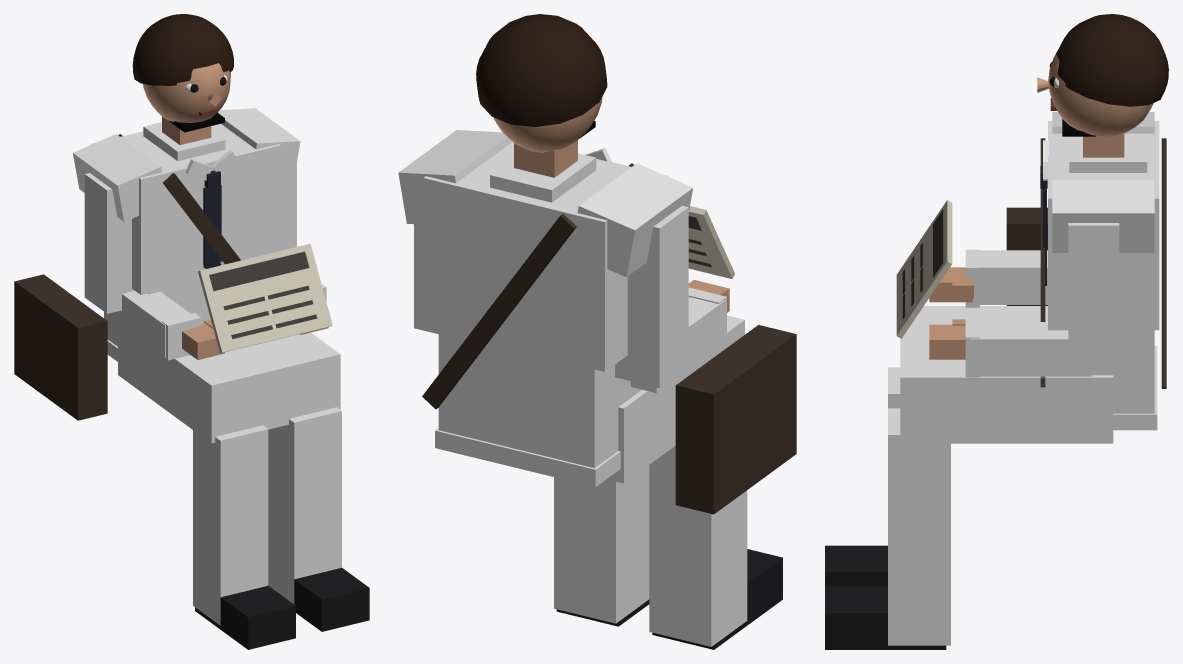
File: NPC_office_seated.fbx
The picture shows the model from 3 angles, left to right: view 1: azimuth 30°, elevation 25°; view 2: azimuth 150°, elevation 25°; view 3: azimuth 270°, elevation 25°; orthographic projection. The views are drawn at different scales.
Visible parts, largest first — view 1: Body_Cloth_26282d.001, Body_Cloth_a9aca9.001, Body_Mat_3a2d22.001, Body_Shoe.009, Prop_Newspaper_Newspaper.001, Head_Hair.011, Head_Skin.011, Prop_Newspaper_Mat_3b3a37.001, Body_Skin.011, Body_Cloth_8d908e.001, Body_Mat_1f2531.001; view 2: Body_Cloth_a9aca9.001, Body_Cloth_26282d.001, Body_Mat_3a2d22.001, Head_Hair.011, Body_Shoe.009, Head_Skin.011, Body_Skin.011, Prop_Newspaper_Newspaper.001, Body_Cloth_8d908e.001; view 3: Body_Cloth_a9aca9.001, Body_Cloth_26282d.001, Head_Hair.011, Body_Shoe.009, Body_Mat_3a2d22.001, Body_Skin.011, Head_Skin.011, Prop_Newspaper_Newspaper.001, Body_Cloth_8d908e.001, Prop_Newspaper_Mat_3b3a37.001.
Boxes of the visible parts, <box> form: Body_Cloth_26282d.001: <box>107,322,341,625</box>; Body_Cloth_a9aca9.001: <box>73,108,300,357</box>; Body_Mat_3a2d22.001: <box>14,134,240,420</box>; Body_Shoe.009: <box>195,568,369,649</box>; Prop_Newspaper_Newspaper.001: <box>198,243,332,353</box>; Head_Hair.011: <box>132,14,233,85</box>; Head_Skin.011: <box>143,63,230,122</box>; Prop_Newspaper_Mat_3b3a37.001: <box>209,251,317,338</box>; Body_Skin.011: <box>162,117,328,359</box>; Body_Cloth_8d908e.001: <box>161,150,326,360</box>; Body_Mat_1f2531.001: <box>203,170,221,268</box>; Body_Cloth_a9aca9.001: <box>398,130,725,467</box>; Body_Cloth_26282d.001: <box>435,315,747,646</box>; Body_Mat_3a2d22.001: <box>422,163,796,514</box>; Head_Hair.011: <box>476,14,607,126</box>; Body_Shoe.009: <box>556,549,782,649</box>; Head_Skin.011: <box>493,96,602,152</box>; Body_Skin.011: <box>514,140,729,312</box>; Prop_Newspaper_Newspaper.001: <box>688,206,734,278</box>; Body_Cloth_8d908e.001: <box>585,148,726,342</box>; Body_Cloth_a9aca9.001: <box>970,112,1159,413</box>; Body_Cloth_26282d.001: <box>888,306,1157,645</box>; Head_Hair.011: <box>1056,14,1168,106</box>; Body_Shoe.009: <box>825,545,946,649</box>; Body_Mat_3a2d22.001: <box>1006,138,1166,388</box>; Body_Skin.011: <box>929,133,1124,359</box>; Head_Skin.011: <box>1037,49,1153,137</box>; Prop_Newspaper_Newspaper.001: <box>896,200,952,338</box>; Body_Cloth_8d908e.001: <box>965,140,1048,377</box>; Prop_Newspaper_Mat_3b3a37.001: <box>902,210,943,319</box>.
Size of the model in its own units: 0.6675 by 1.36 by 0.7098.
